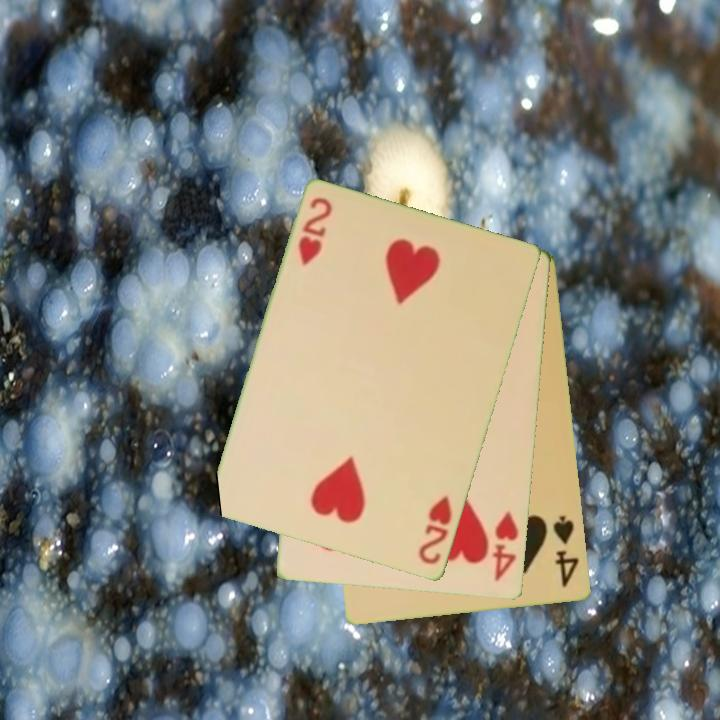2h: (295, 194, 336, 269), (415, 492, 455, 568)
4h: (489, 508, 522, 585)
4s: (550, 512, 582, 590)
